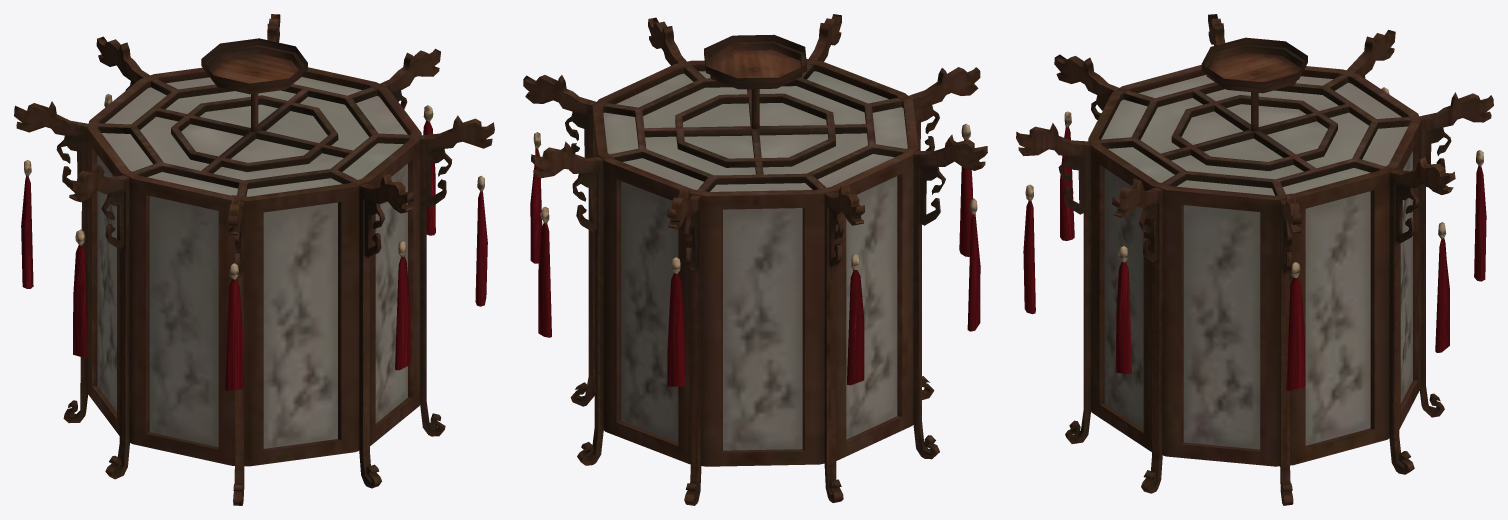
Rendered from chinese_chandelier.glb.
3 renders of one model, left to right at view 1: azimuth 30°, elevation 25°; view 2: azimuth 150°, elevation 25°; view 3: azimuth 270°, elevation 25°, orthographic.
Visible parts, largest first — view 1: chinese_chandelier; view 2: chinese_chandelier; view 3: chinese_chandelier.
Boxes of the visible parts, box(x1,y1,x2,y2) form: chinese_chandelier: box(14, 14, 494, 505); chinese_chandelier: box(523, 14, 987, 505); chinese_chandelier: box(1016, 14, 1493, 505).
Size of the model in its own units: 0.8772 by 0.7478 by 0.878.
Materials: 1 (1 with a texture image).
